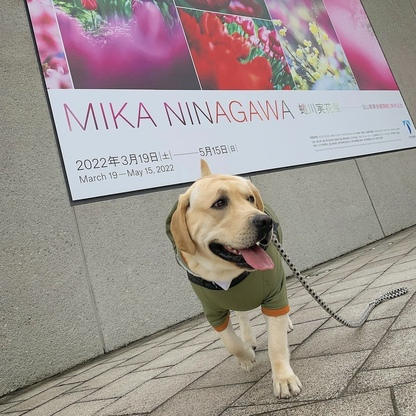labrado: (164, 157, 311, 406)
